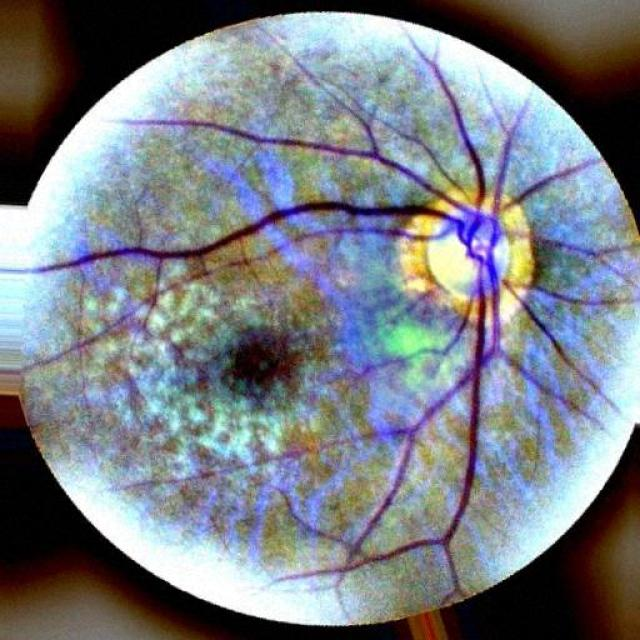Macula: (215, 320, 305, 405)
Nerves: (53, 120, 481, 274), (353, 245, 492, 577)
Optic Disk: (406, 186, 533, 330)
